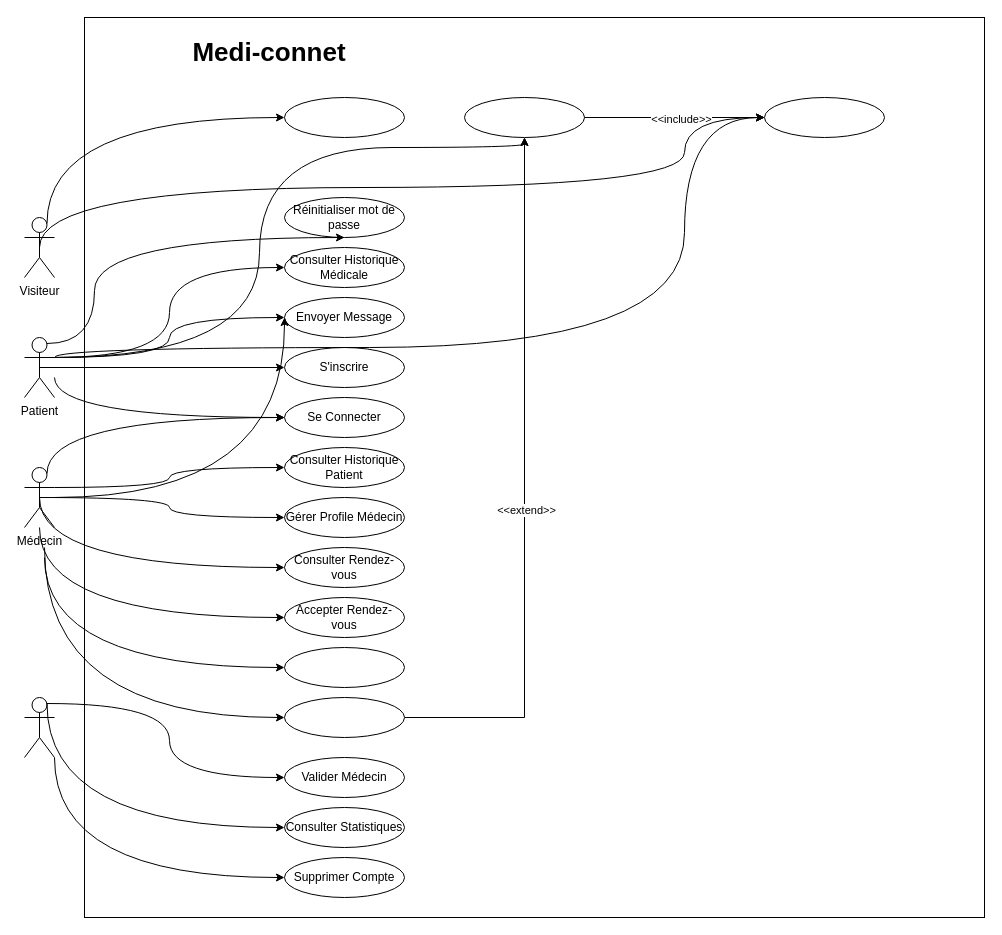
Some shapes in this 1002 by 935 pixel diagram are drawn without their labels. The centre of each missing label's shape, as x and y in pixels:
Admin: the point at 39,727
Consulter Profile Médecin: the point at 344,117
Donner Diagrnostic: the point at 344,717
Prendre Rendez-vous: the point at 524,117
Rechercher Médecin: the point at 824,117
Refuser Render-vous: the point at 344,667
